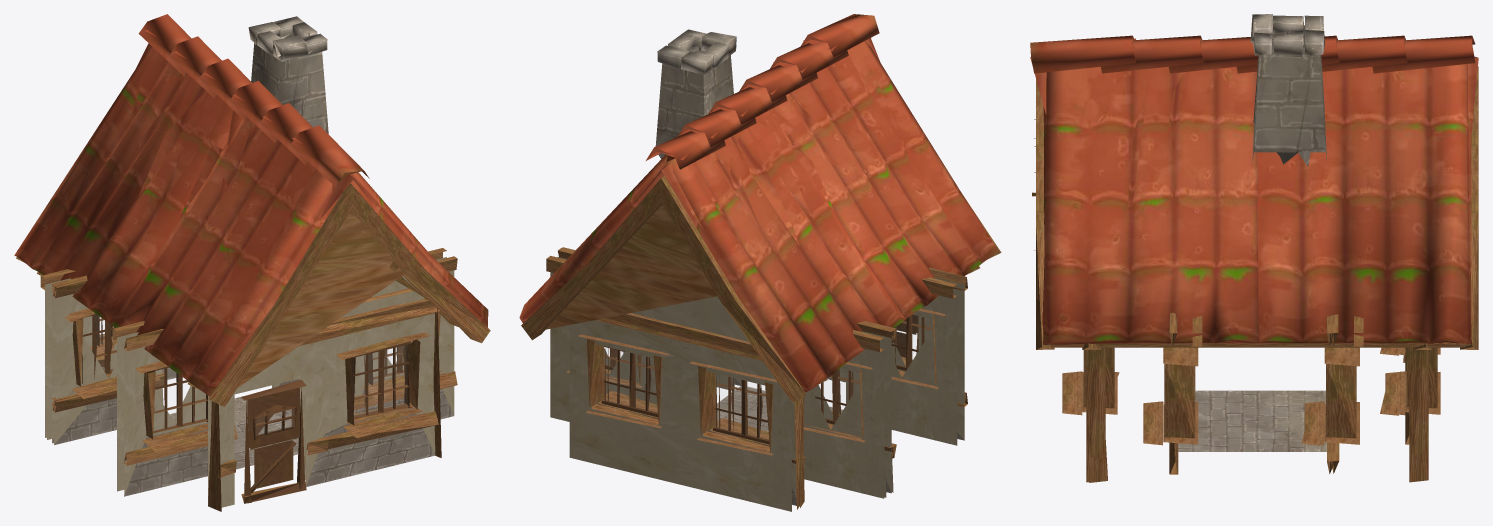
Rendered from library-house-miniature-seated.glb.
3 views of the same model, side by side, from view 1: azimuth 30°, elevation 25°; view 2: azimuth 150°, elevation 25°; view 3: azimuth 270°, elevation 25° (orthographic). The views are drawn at different scales.
Visible parts, largest first — view 1: maison_alsace_01, maison_alsace_01_distant; view 2: maison_alsace_01, maison_alsace_01_distant; view 3: maison_alsace_01, maison_alsace_01_distant.
Part boxes in pixels (left/top/right/bottom): maison_alsace_01: left=14, top=14, right=490, bottom=511; maison_alsace_01_distant: left=47, top=30, right=456, bottom=509; maison_alsace_01: left=519, top=14, right=1001, bottom=511; maison_alsace_01_distant: left=545, top=15, right=967, bottom=507; maison_alsace_01: left=1030, top=14, right=1478, bottom=482; maison_alsace_01_distant: left=1030, top=27, right=1478, bottom=482.
Size of the model in its own units: 0.93 by 1.02 by 0.979.
Materials: 6 (5 with a texture image).
